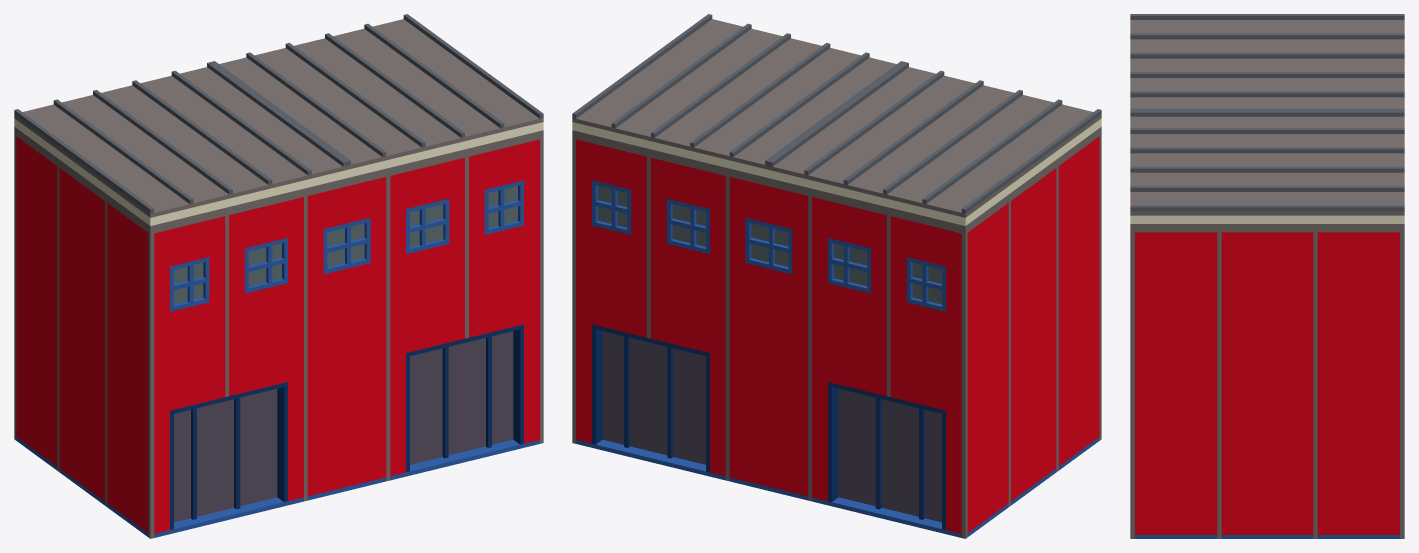
The model's file is plant1.obj.
3 renders of one model, left to right at view 1: azimuth 30°, elevation 25°; view 2: azimuth 150°, elevation 25°; view 3: azimuth 270°, elevation 25°, orthographic.
Size of the model in its own units: 10 by 8 by 6.
Materials: 1 (1 with a texture image).
